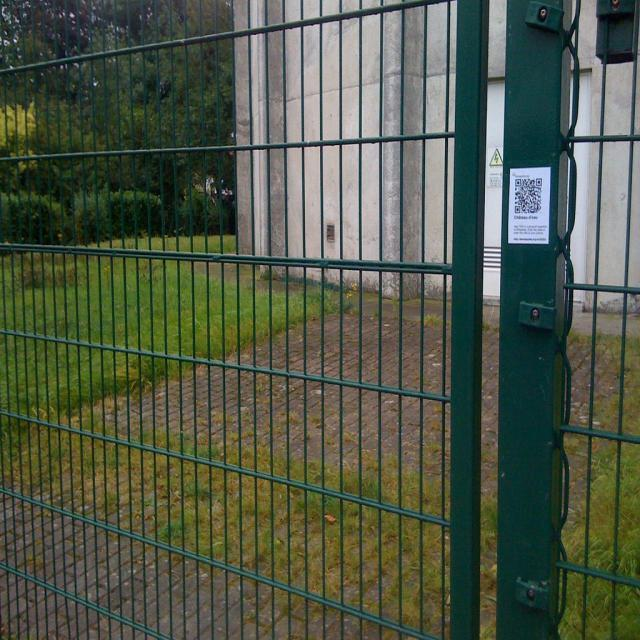qrcode: (516, 180, 542, 214)
